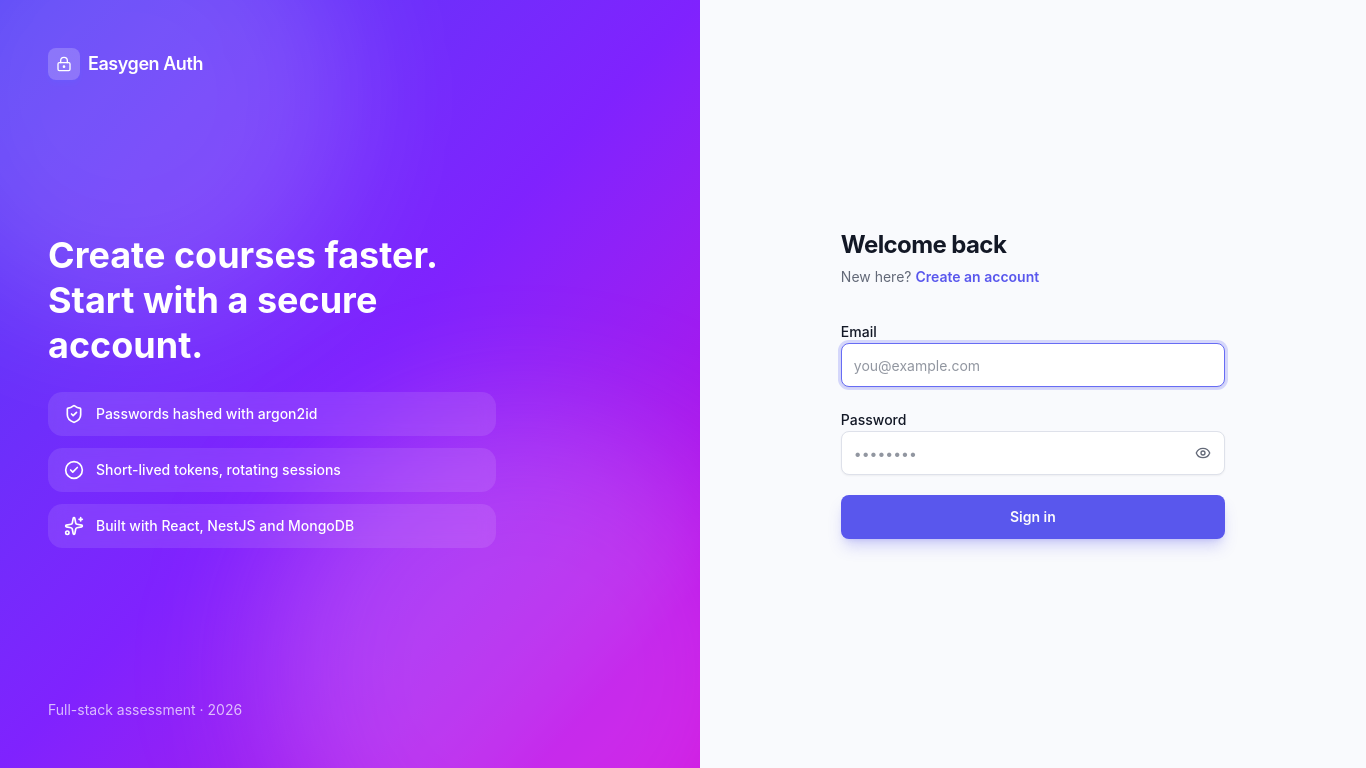
sign in / log out › shows the server error for bad credentials
The image size is (1366, 768).
Type "jane@example.com" into the field labelled "Email" at (1033, 365), box [841, 343, 1225, 387]
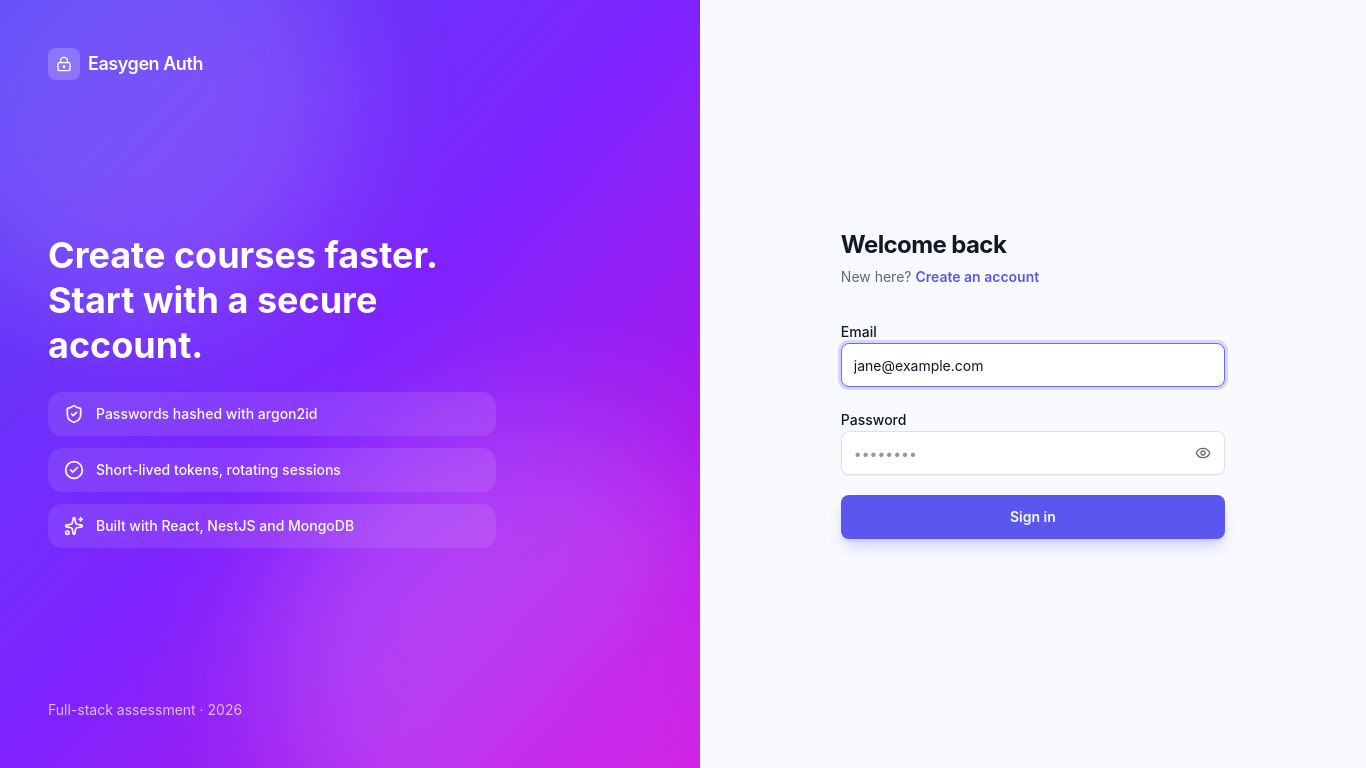
Type "whatever" into the password field labelled "Password" at (1033, 453), box [841, 431, 1225, 475]
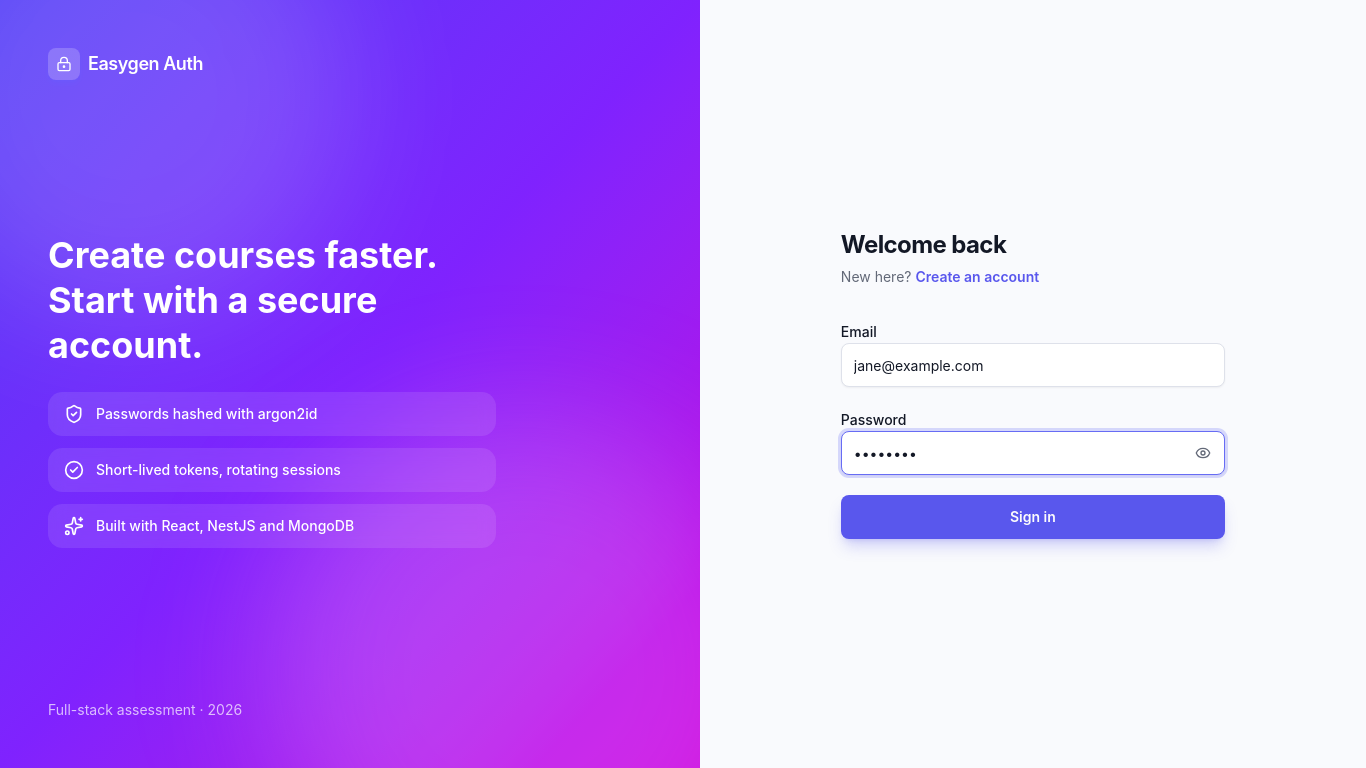
Click the button "Sign in" at (1033, 517), box [841, 495, 1225, 539]
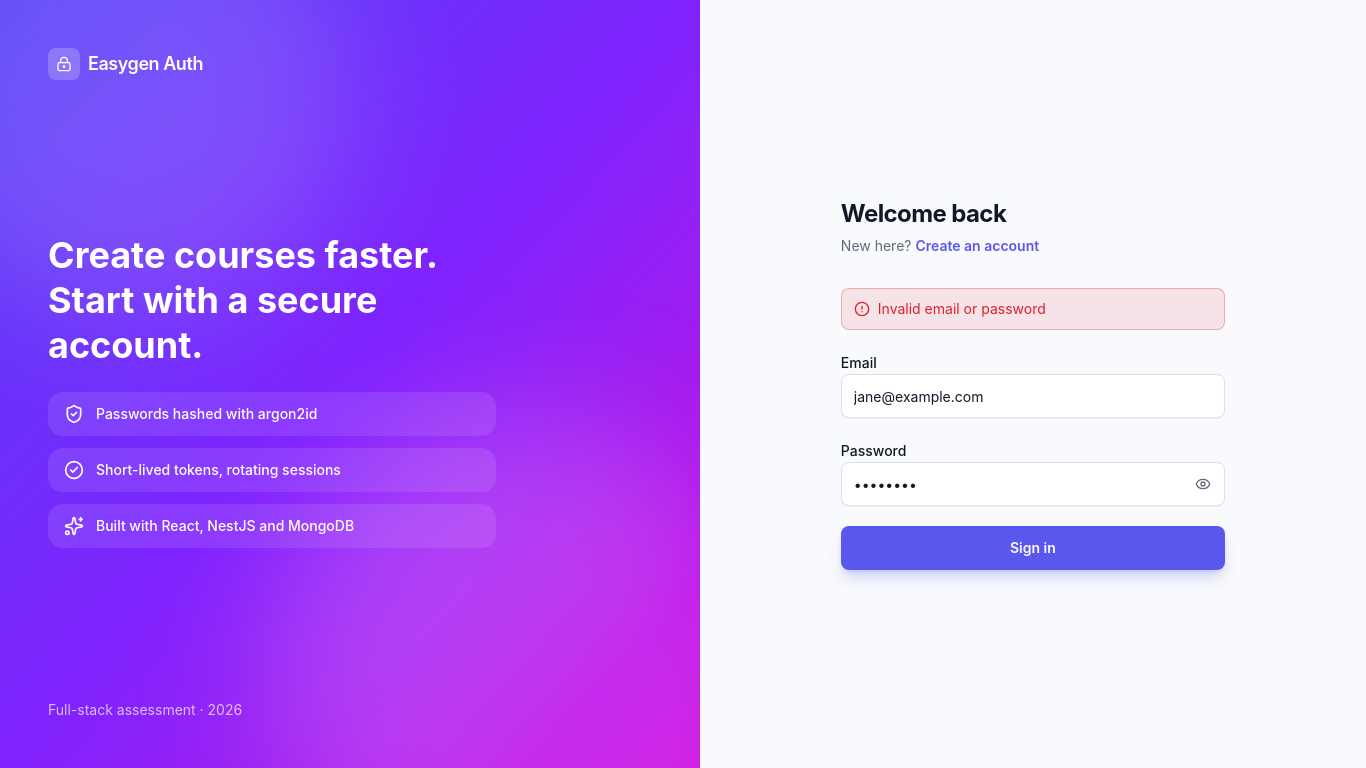
Check: the text "Invalid email or password" is shown, box [878, 299, 1046, 319]
